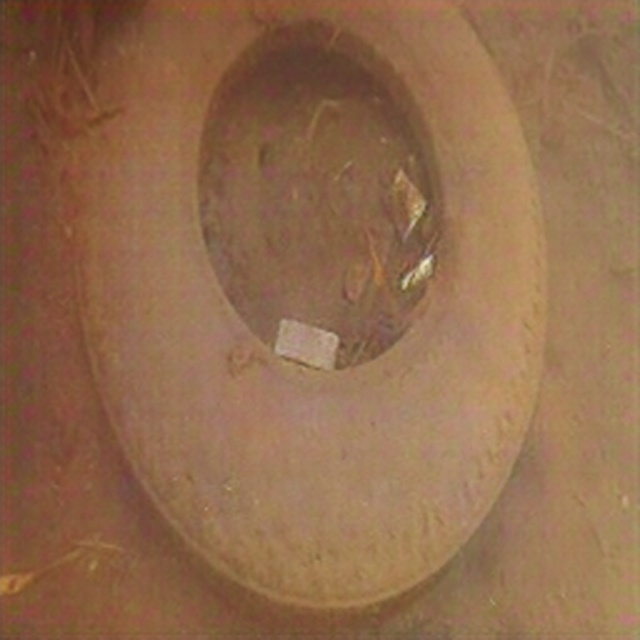mine: (73, 2, 547, 628)
